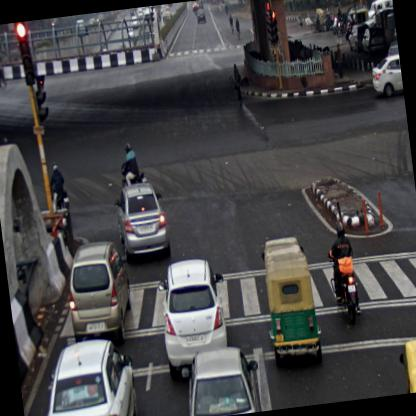car: (154, 257, 236, 380), (30, 333, 140, 415), (60, 240, 137, 350), (175, 344, 264, 415), (112, 180, 171, 260), (367, 52, 403, 101), (196, 6, 206, 23)
motorcycle: (322, 220, 362, 326), (115, 140, 146, 186), (45, 160, 71, 213)
